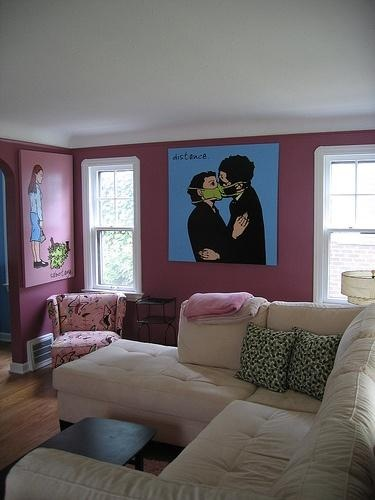chair: (42, 290, 128, 369)
sofa: (6, 291, 375, 500)
